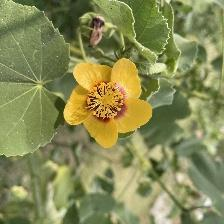indian mallow: (63, 61, 161, 154)
